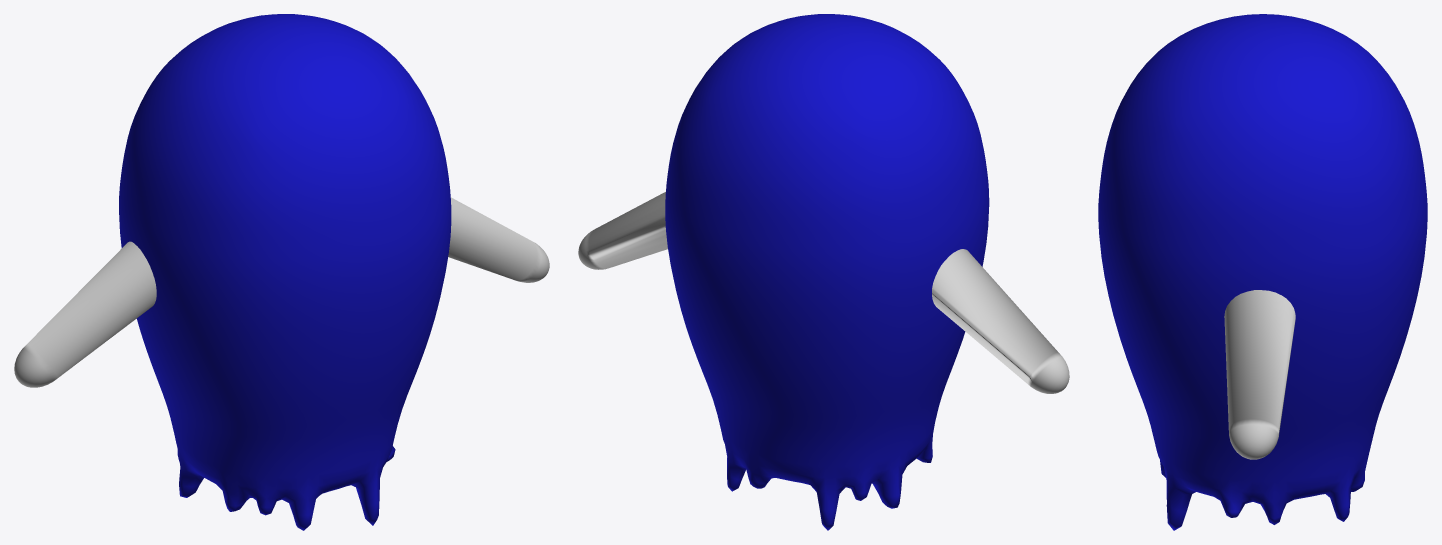
File: beforeThrow_00003.obj
3 views of the same model, side by side, from view 1: azimuth 30°, elevation 25°; view 2: azimuth 150°, elevation 25°; view 3: azimuth 270°, elevation 25° (orthographic). The views are drawn at different scales.
Parts seen in each view (by area): view 1: Cube, Sphere.001, Sphere; view 2: Cube, Sphere.001, Sphere; view 3: Cube, Sphere.
Part boxes in pixels (left/top/right/bottom): Cube: left=119, top=14, right=451, bottom=530; Sphere.001: left=14, top=241, right=156, bottom=387; Sphere: left=448, top=197, right=549, bottom=282; Cube: left=665, top=14, right=989, bottom=530; Sphere.001: left=932, top=249, right=1069, bottom=393; Sphere: left=578, top=192, right=667, bottom=269; Cube: left=1098, top=14, right=1427, bottom=530; Sphere: left=1224, top=290, right=1295, bottom=459.
Size of the model in its own units: 0.5197 by 0.4584 by 0.2859.
